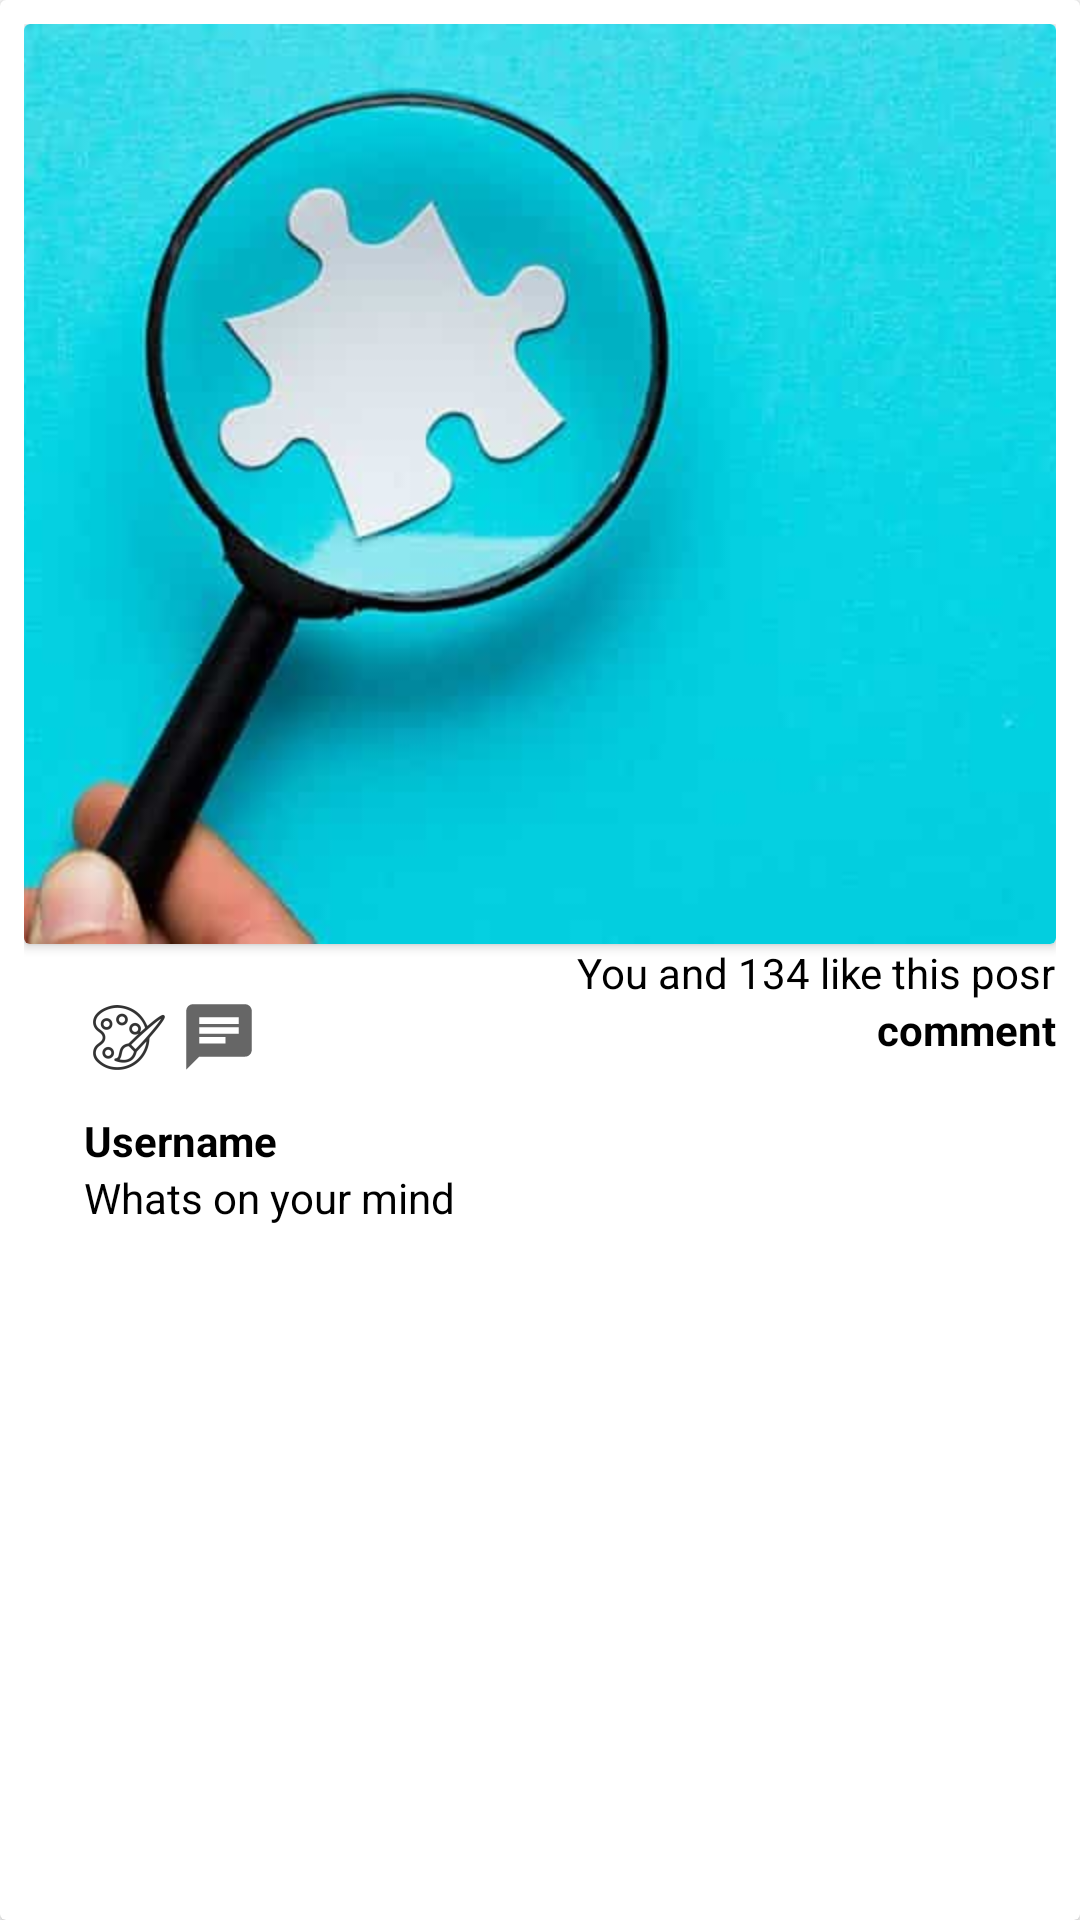

Named icons in this screenshot (1080 × 1920) and their bounding boxes, bbox=(x1, y1, x2, y2):
comment: bbox=(186, 1004, 252, 1070)
